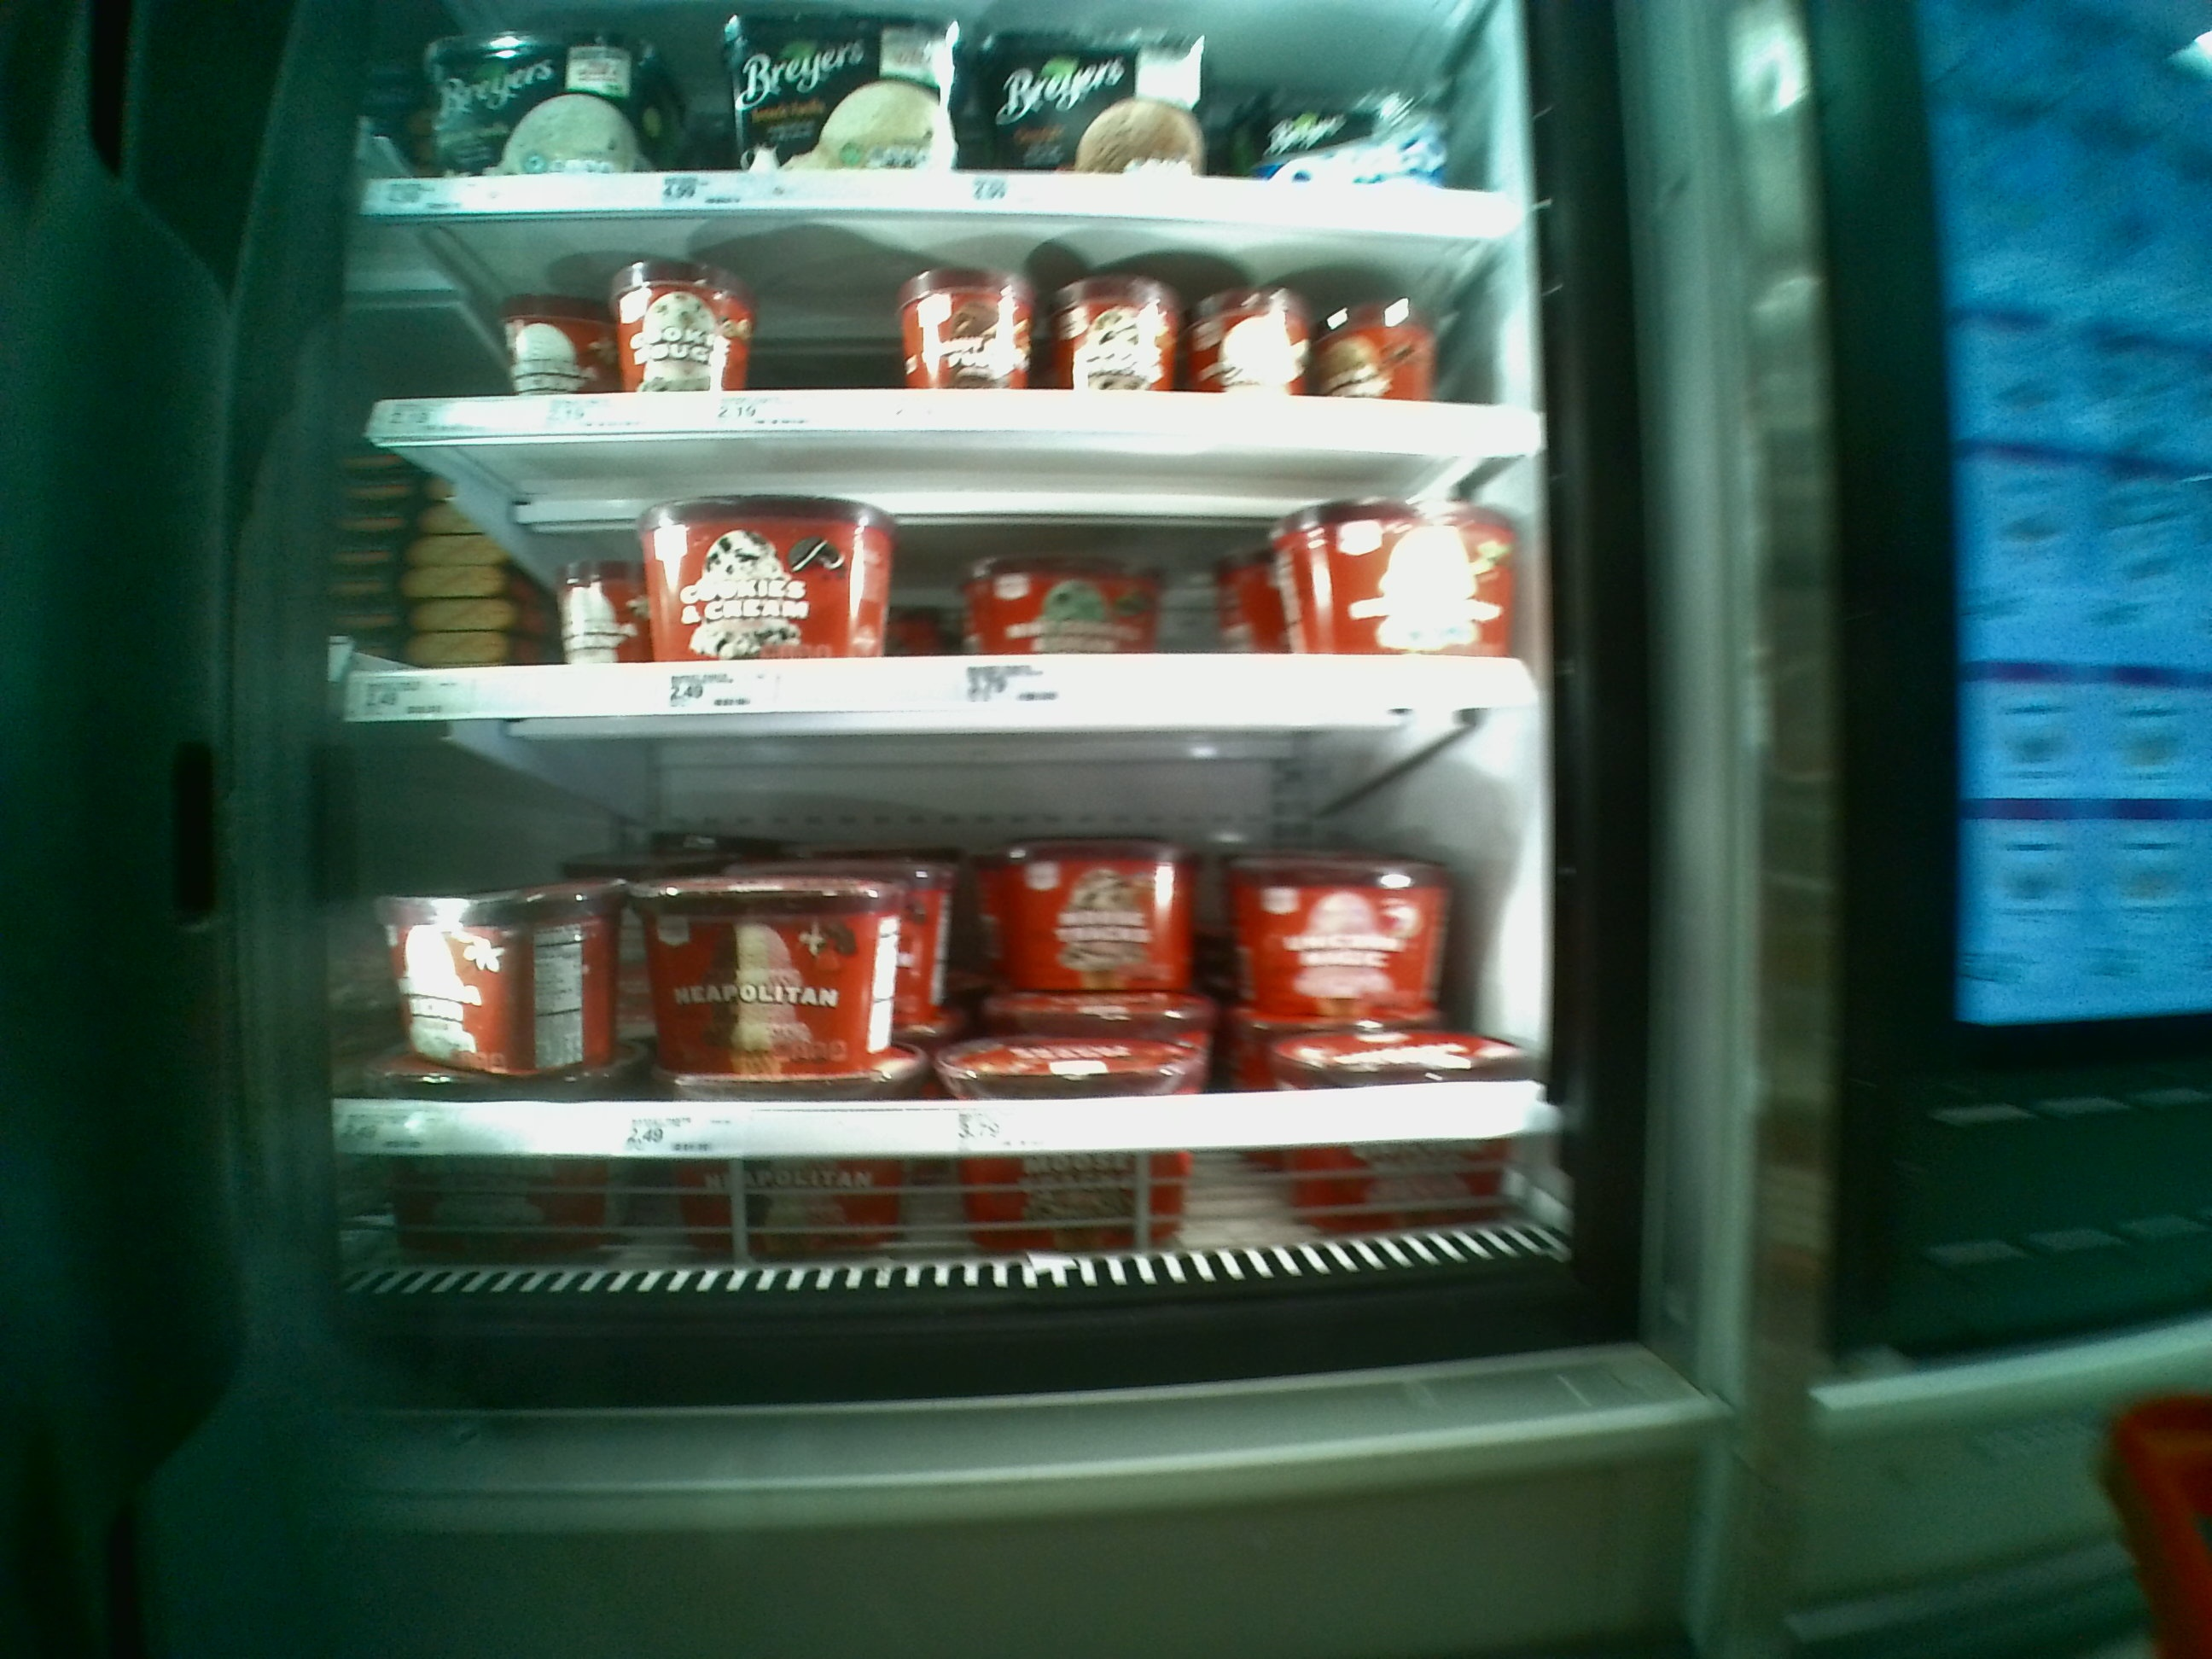shelf: (347, 718, 1545, 1265), (341, 465, 1541, 720), (355, 220, 1533, 446)
